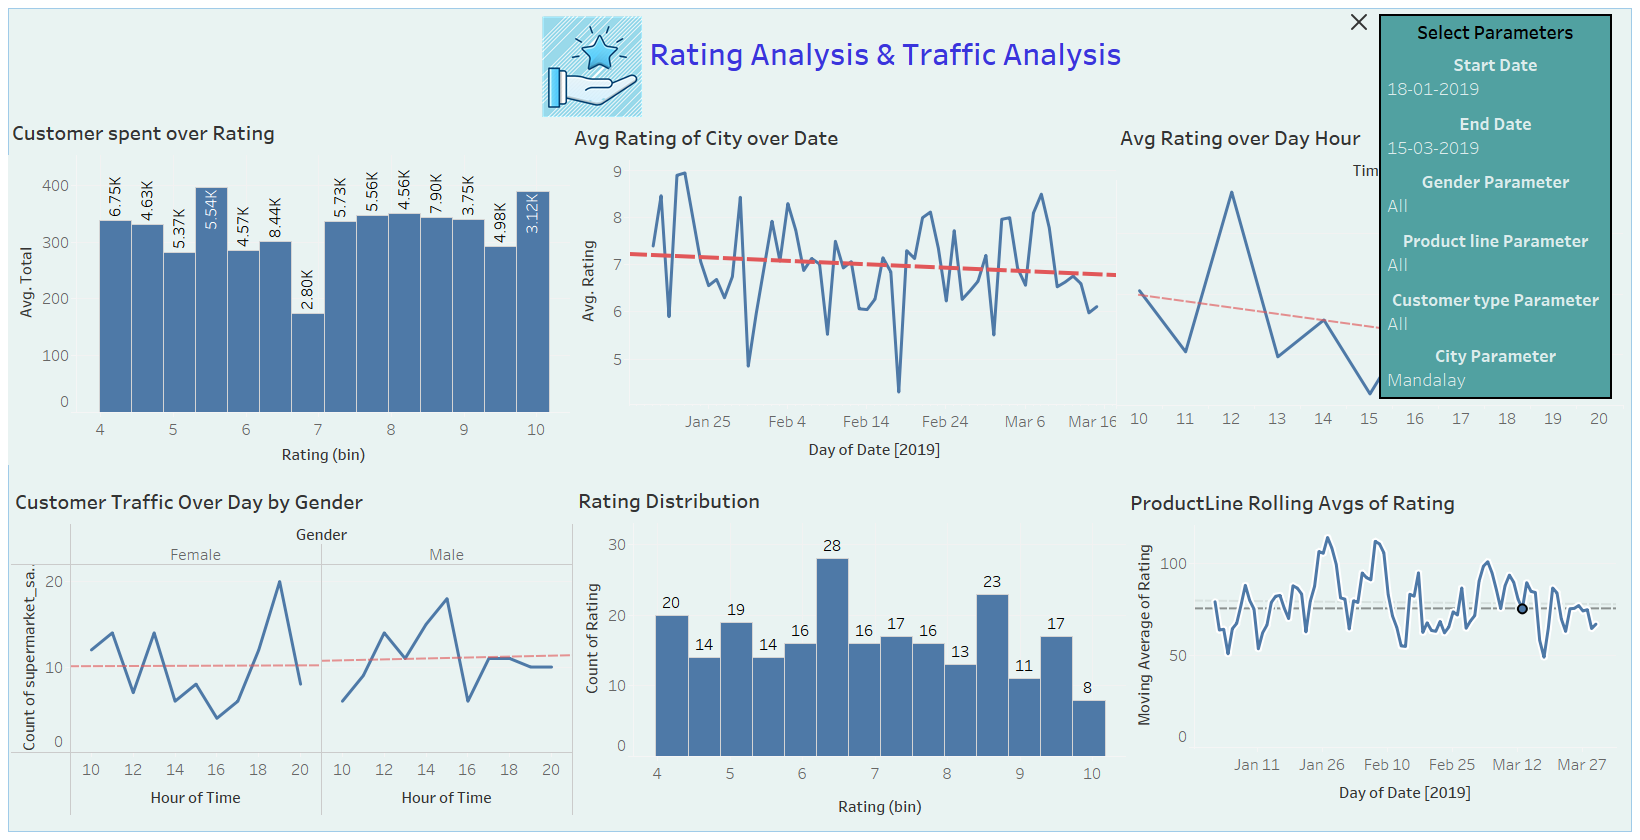

The page's visual inventory and layout, read from the dashboard file:
{"tool":"tableau","page":{"name":"Rating Analysis & Traffic Analysis","canvas":[1640,840],"ordinal":0},"visuals":[{"type":"dashboard-object","box":[1346.8,9.9,23.9,23.7]},{"type":"text","box":[592,14,587,77]},{"type":"text","box":[1380.6,15.8,229.6,32]},{"type":"image","param":"F:/Project/Tableu_data_analysis_sales/Favorite-512.png","box":[524,16,136,101]},{"type":"parameter","param":"[Parameters].[Parameter 1]","box":[1380.6,47.8,229.6,58.7]},{"type":"parameter","param":"[Parameters].[Date (copy)_633881687770341377]","box":[1380.6,106.5,229.6,58.7]},{"type":"worksheet","title":"Customer spent over rating","mark":"Automatic","rows":["Total"],"cols":["Rating (bin)"],"box":[8,111.7,562.6,352.8]},{"type":"worksheet","title":"Avg Rating of City over Date","mark":"Automatic","rows":["Rating"],"cols":["Date"],"box":[569.5,116.6,549.6,349.8]},{"type":"worksheet","title":"Avg Rating (Gender) over Day Hour","mark":"Automatic","rows":["Rating"],"cols":["Time"],"box":[1116.2,116.6,506.9,347.9]},{"type":"parameter","param":"[Parameters].[Gender Parameter]","box":[1380.6,165.2,229.6,58.7]},{"type":"parameter","param":"[Parameters].[Product line Parameter]","box":[1380.6,223.9,229.6,58.7]},{"type":"parameter","param":"[Parameters].[Customer type Parameter]","box":[1380.6,282.6,229.6,56]},{"type":"parameter","param":"[Parameters].[City Parameter]","box":[1380.6,338.6,229.6,58.7]},{"type":"worksheet","title":"Rating Histogram","mark":"Automatic","rows":["Rating"],"cols":["Rating (bin)"],"box":[574.5,480.3,552.6,337]},{"type":"worksheet","title":"Customer Traffic Over Day by Gender","mark":"Automatic","rows":["supermarket_sales.csv_4A0FD3CE3F6C410AA6D2A6CBBF69249C"],"cols":["Gender","Time"],"box":[10.9,481.3,562.6,335]},{"type":"worksheet","title":"ProductLine Rolling Avgs of Rating","mark":"Automatic","rows":["Rating"],"cols":["Date"],"box":[1126.1,482.3,490,328.1]}]}

Visuals, with their boxes in screenshot pixels (x1, y1, x2, y2), scaled from the page's 1640x840 canvas onto the 1640x840 screenshot:
dashboard-object: l=1347, t=10, r=1371, b=34
text: l=592, t=14, r=1179, b=91
text: l=1381, t=16, r=1610, b=48
image: l=524, t=16, r=660, b=117
parameter: l=1381, t=48, r=1610, b=106
parameter: l=1381, t=106, r=1610, b=165
"Customer spent over rating" worksheet: l=8, t=112, r=571, b=464
"Avg Rating of City over Date" worksheet: l=570, t=117, r=1119, b=466
"Avg Rating (Gender) over Day Hour" worksheet: l=1116, t=117, r=1623, b=464
parameter: l=1381, t=165, r=1610, b=224
parameter: l=1381, t=224, r=1610, b=283
parameter: l=1381, t=283, r=1610, b=339
parameter: l=1381, t=339, r=1610, b=397
"Rating Histogram" worksheet: l=574, t=480, r=1127, b=817
"Customer Traffic Over Day by Gender" worksheet: l=11, t=481, r=574, b=816
"ProductLine Rolling Avgs of Rating" worksheet: l=1126, t=482, r=1616, b=810
